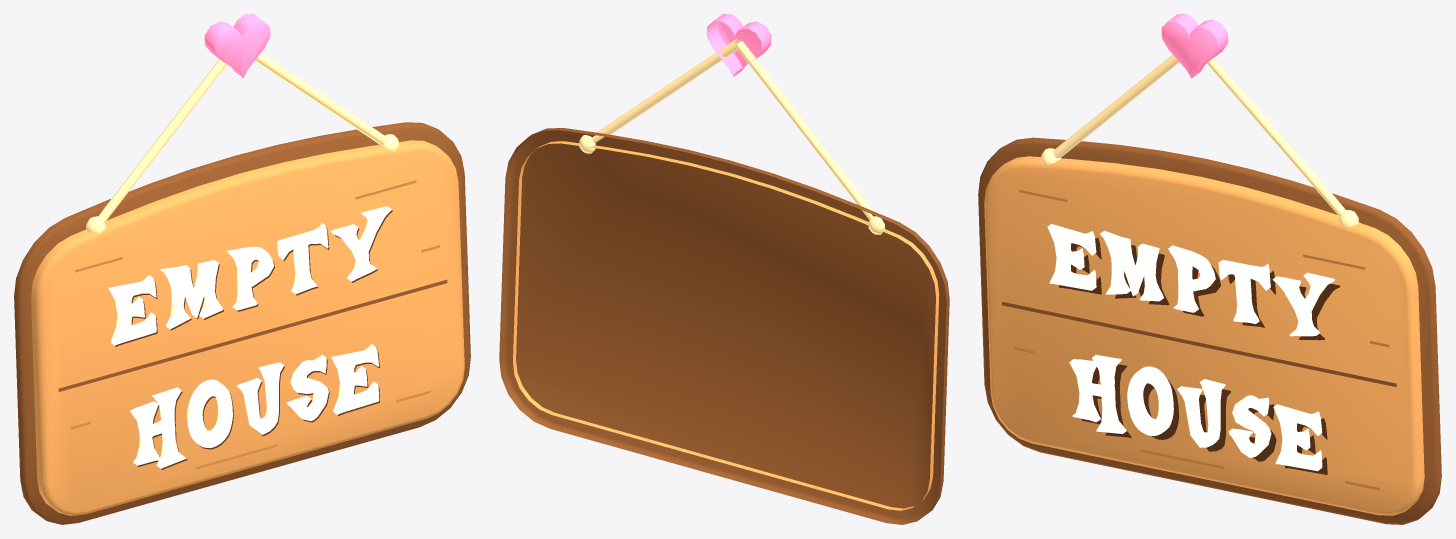
Rendered from door_sign.glb.
3 views of the same model, side by side, from view 1: azimuth 30°, elevation 25°; view 2: azimuth 150°, elevation 25°; view 3: azimuth 330°, elevation 25° (orthographic). The views are drawn at different scales.
Parts seen in each view (by area): view 1: door_sign; view 2: door_sign; view 3: door_sign.
Boxes of the visible parts, <box> form: door_sign: <box>14,14,470,524</box>; door_sign: <box>499,14,949,524</box>; door_sign: <box>978,14,1441,524</box>.
Size of the model in its own units: 0.6647 by 0.6531 by 0.042.
